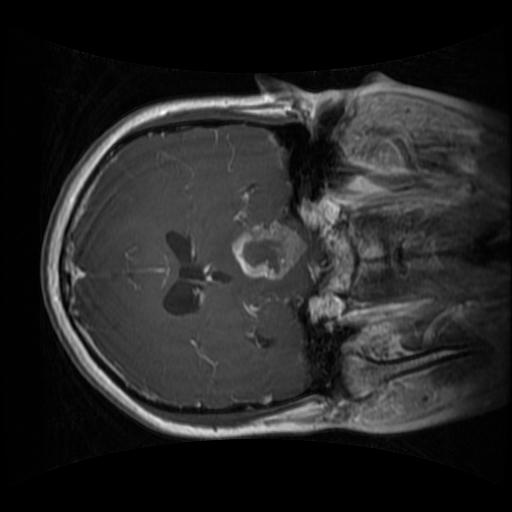glioma: (230, 221, 309, 282)
